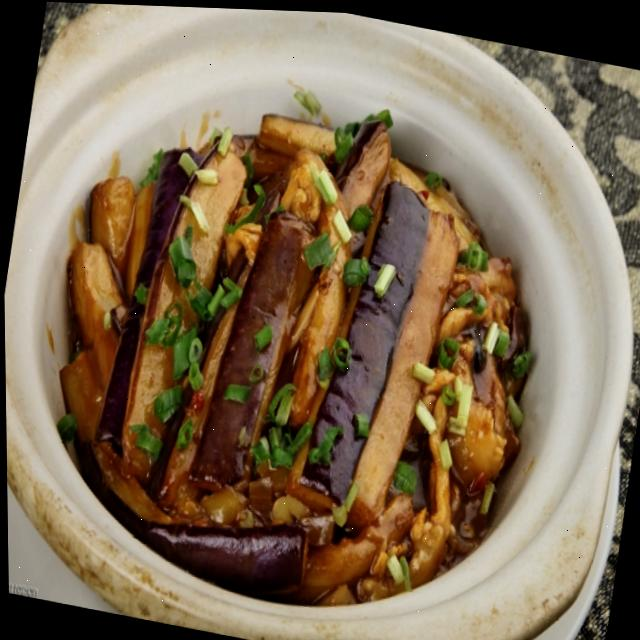鸡蛋料理: (0, 0, 637, 640)
